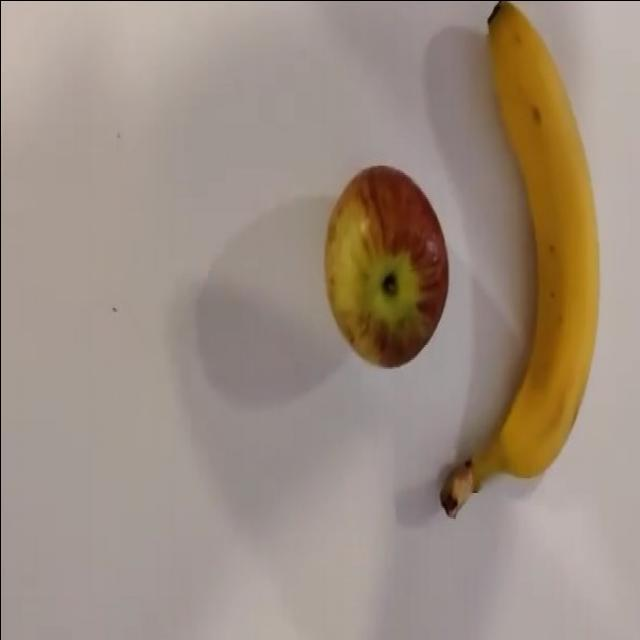Apple: (323, 164, 449, 368)
Banana: (438, 0, 600, 519)
